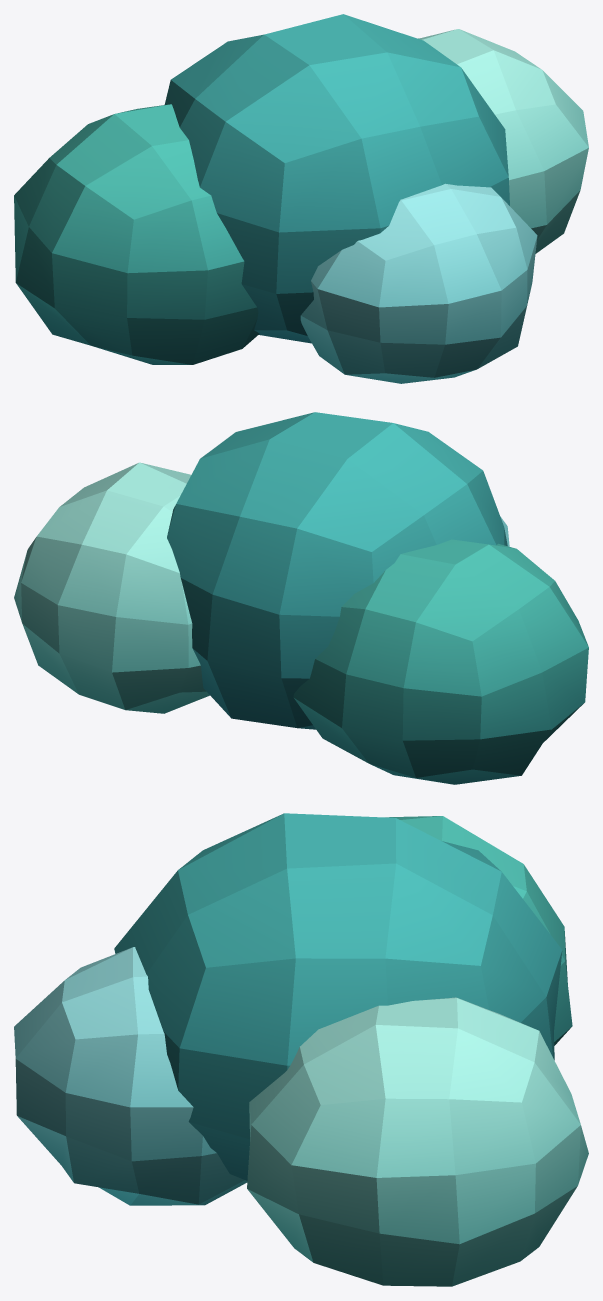
Rendered from PlayGround_Kit_Bush_Jelly.fbx.
The picture shows the model from 3 angles, top to bottom: view 1: azimuth 30°, elevation 25°; view 2: azimuth 150°, elevation 25°; view 3: azimuth 270°, elevation 25°; orthographic projection. The views are drawn at different scales.
Parts seen in each view (by area): view 1: PlayGround_Kit_Bush_Jelly; view 2: PlayGround_Kit_Bush_Jelly; view 3: PlayGround_Kit_Bush_Jelly.
Boxes of the visible parts, x1,y1,x2,y2 form: PlayGround_Kit_Bush_Jelly: (14, 14, 588, 383); PlayGround_Kit_Bush_Jelly: (14, 412, 588, 784); PlayGround_Kit_Bush_Jelly: (14, 813, 588, 1286).
Size of the model in its own units: 1.98 by 1.03 by 1.5.
